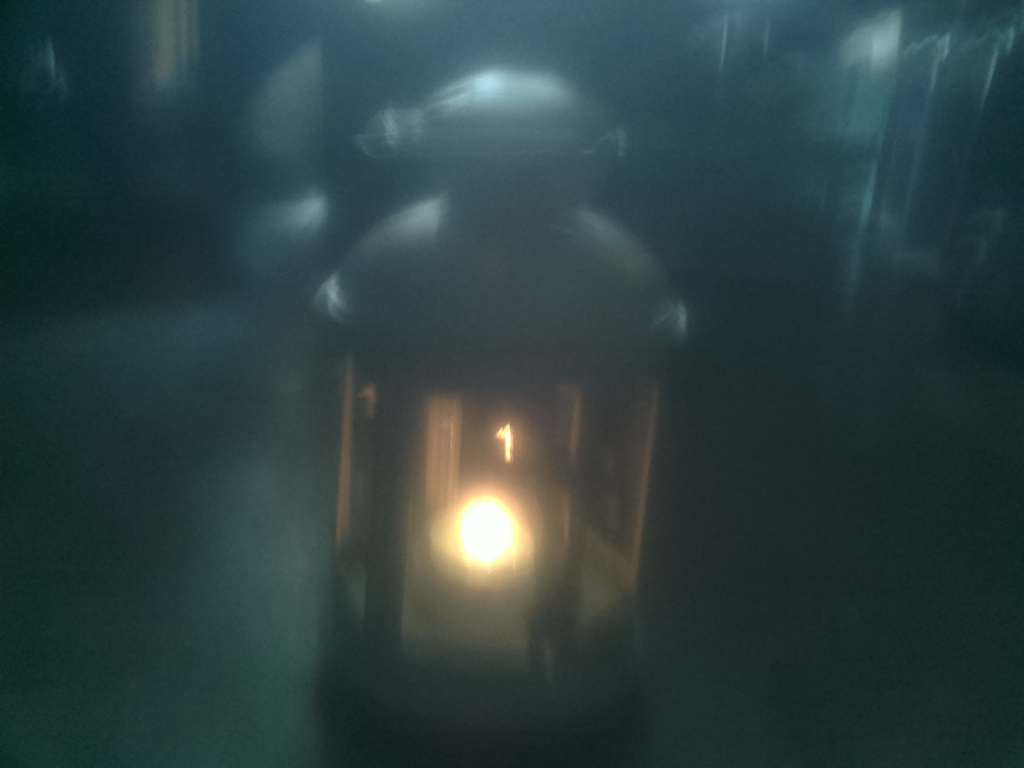fire: (426, 477, 525, 590)
